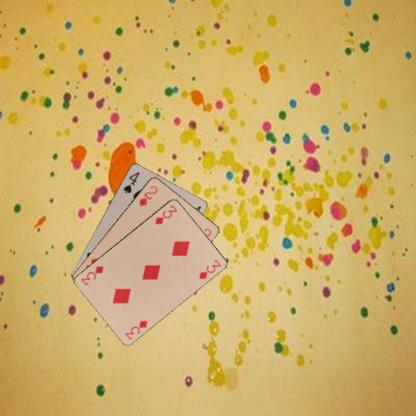2d: (137, 183, 159, 207)
3d: (152, 202, 178, 225), (122, 318, 148, 341)
4s: (120, 169, 140, 194)
